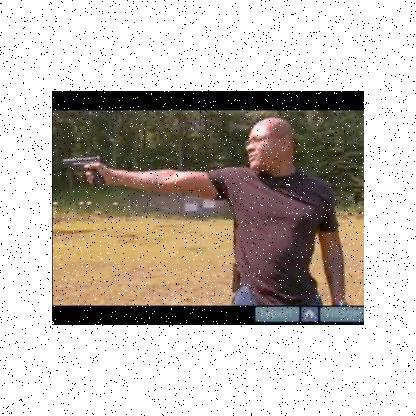gun: (62, 154, 102, 188)
